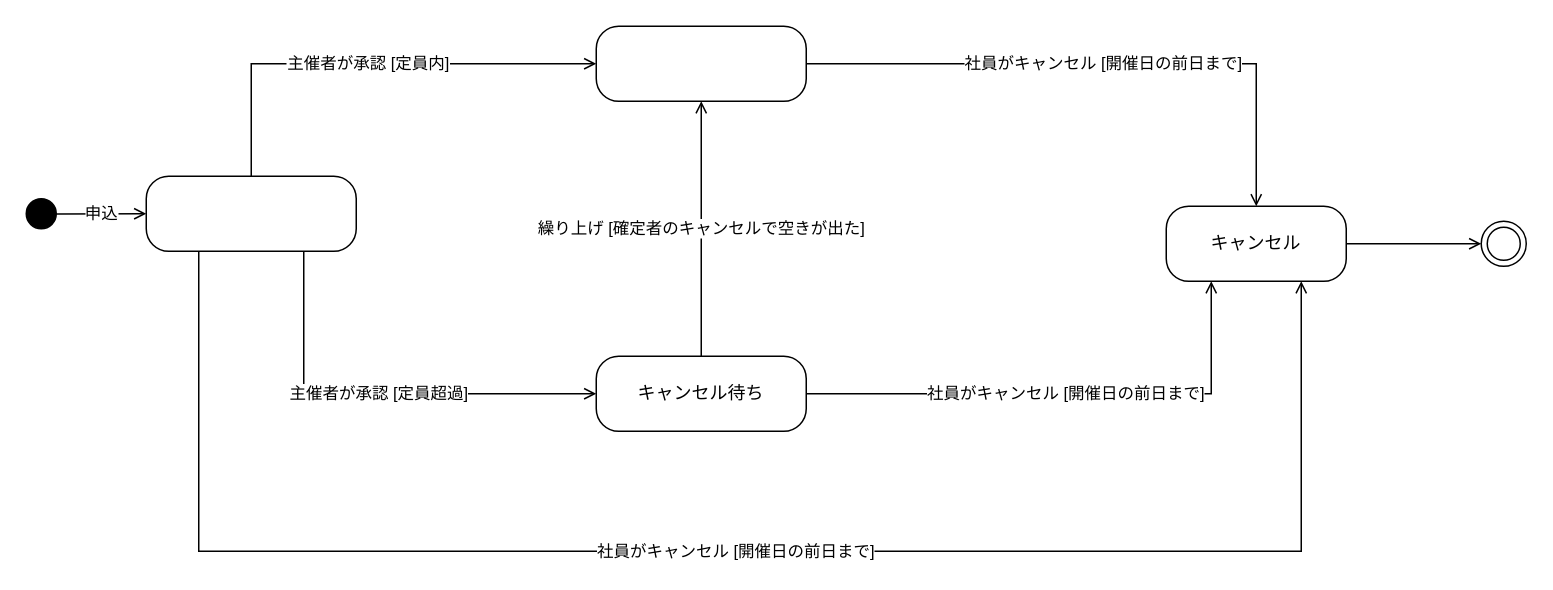
The diagram is 1553 pixels wide and 590 high, and some of its shapes have lost their labels. Each missing label, with the box of its shape:
申込済: (145, 175, 356, 251)
確定: (595, 25, 806, 101)
